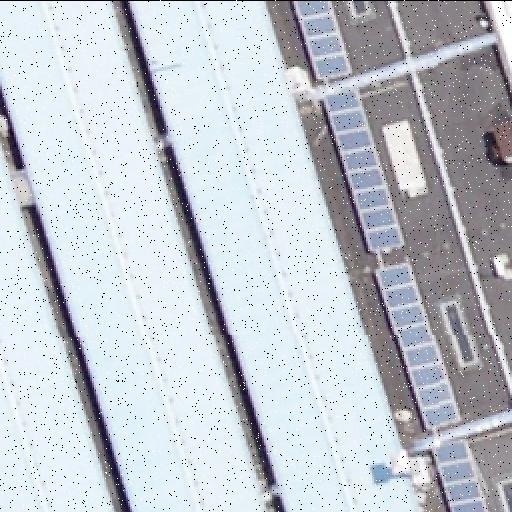solar-panel: (374, 257, 458, 431), (320, 83, 404, 253), (289, 0, 351, 80), (428, 436, 488, 512)
